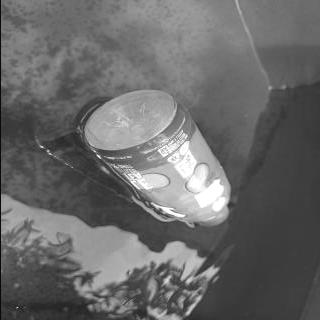bottle: (82, 90, 234, 228)
